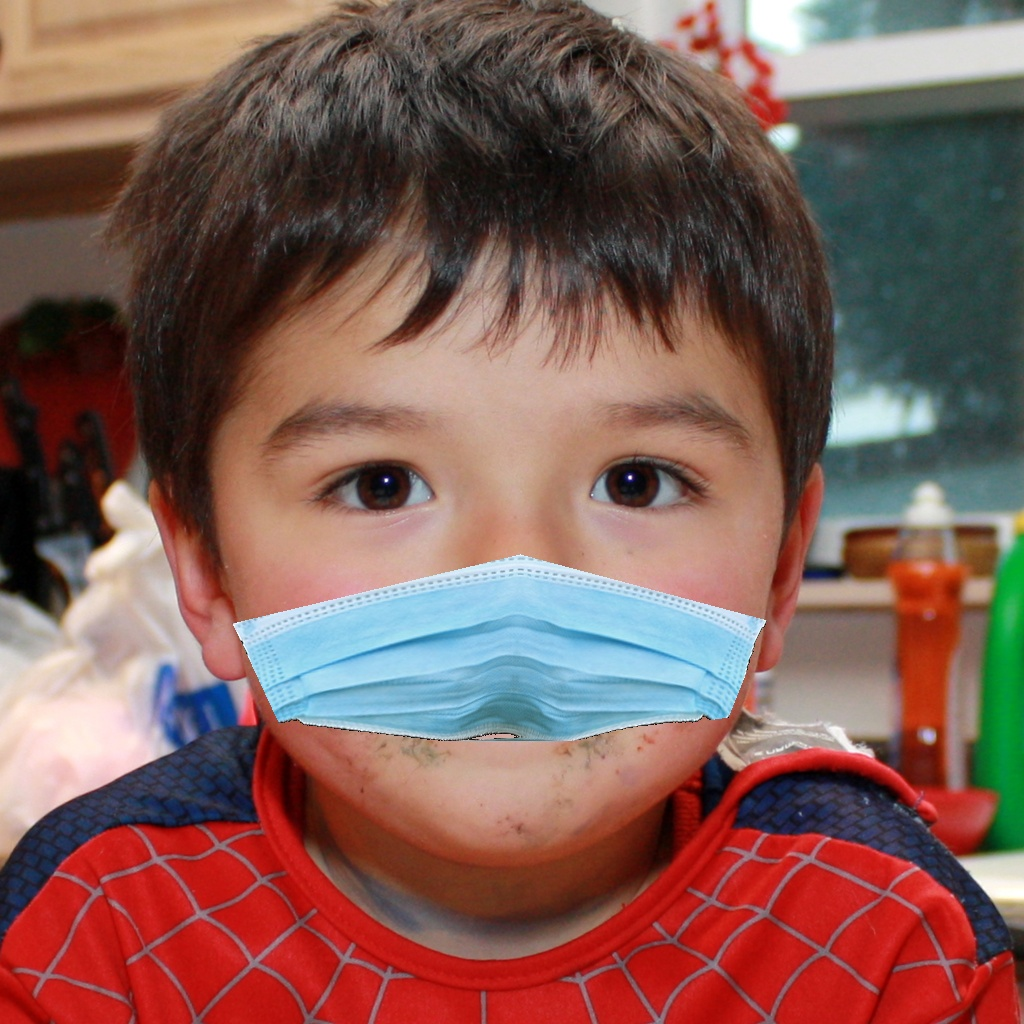mask_weared_incorrect: (199, 353, 785, 880)
